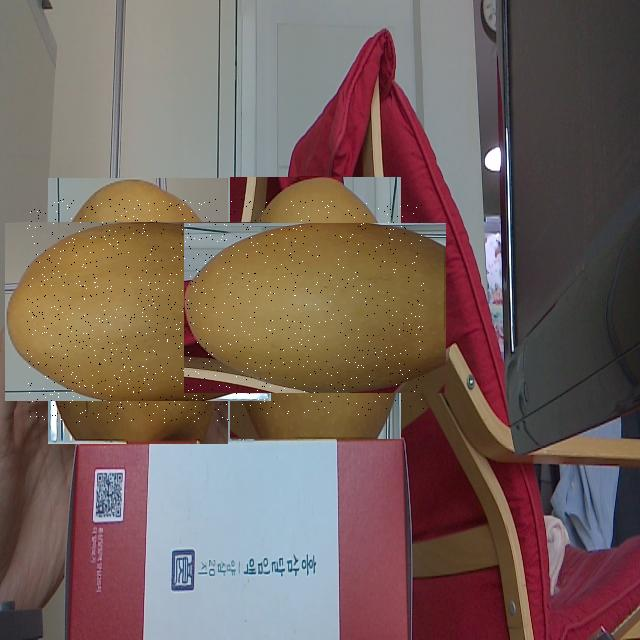pear: (27, 199, 250, 423), (207, 200, 424, 416)
